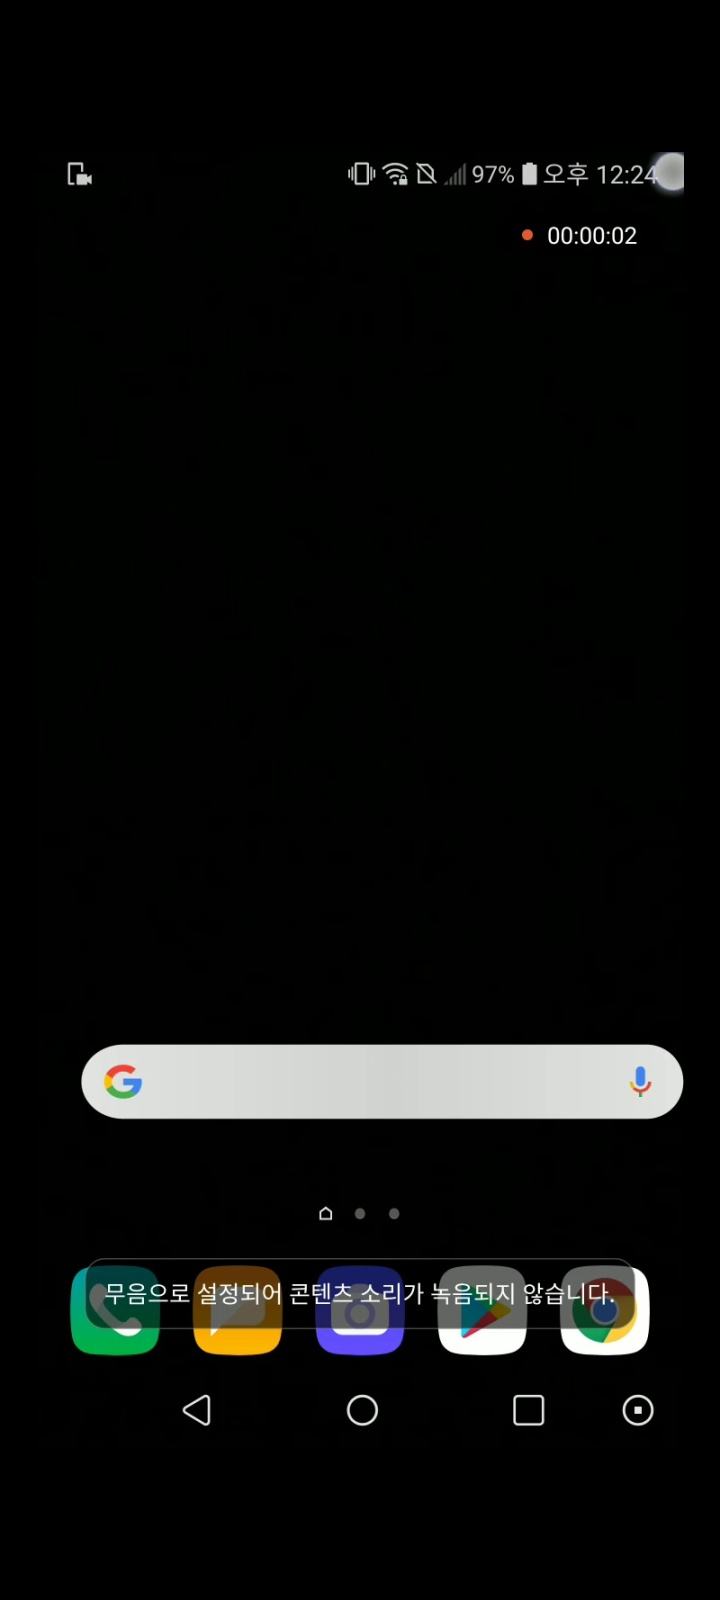Cursor: (648, 153, 684, 197)
